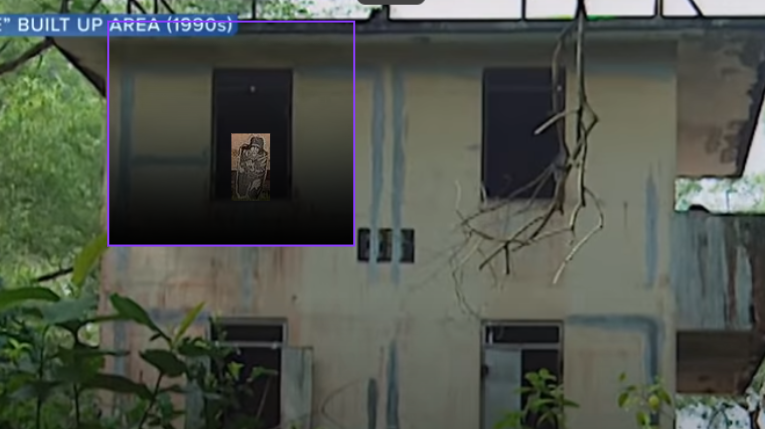HVT1: (237, 136, 266, 197)
